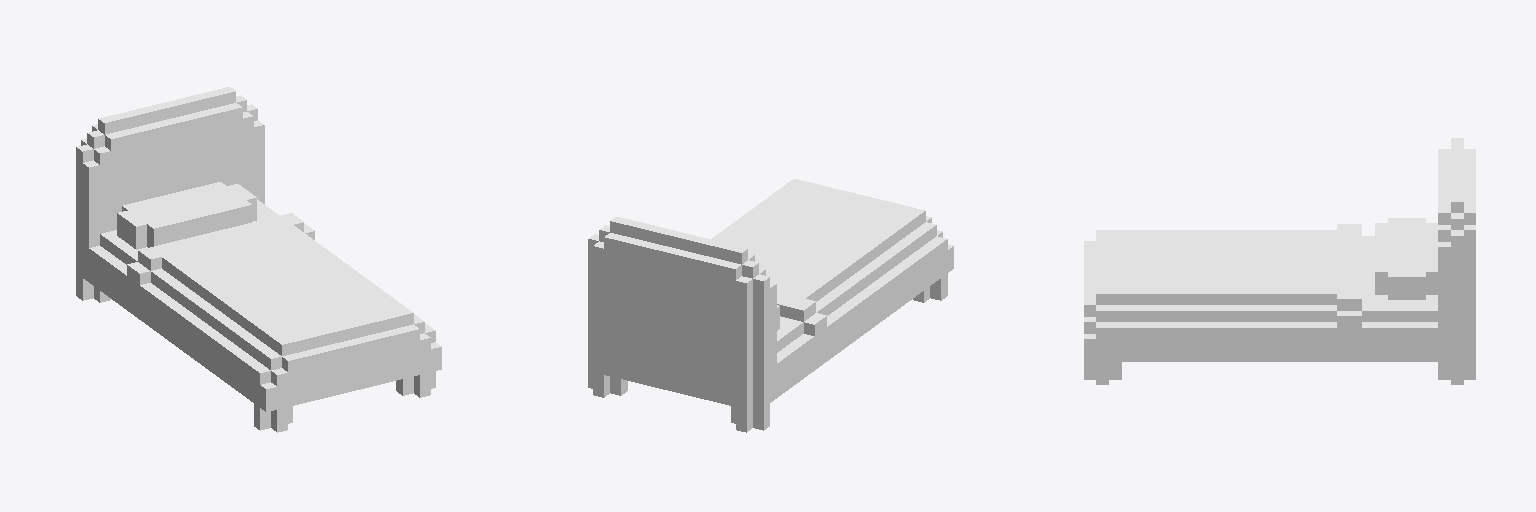
The model's file is Interior_Furniture_Bed_Single_02.obj.
3 renders of one model, left to right at view 1: azimuth 30°, elevation 25°; view 2: azimuth 150°, elevation 25°; view 3: azimuth 270°, elevation 25°, orthographic.
Parts seen in each view (by area): view 1: object 1; view 2: object 1; view 3: object 1.
Part boxes in pixels (bbox=[...]): object 1: bbox=[76, 87, 441, 432]; object 1: bbox=[588, 179, 953, 432]; object 1: bbox=[1084, 138, 1475, 384].
Size of the model in its own units: 1.6 by 1.5 by 3.1.